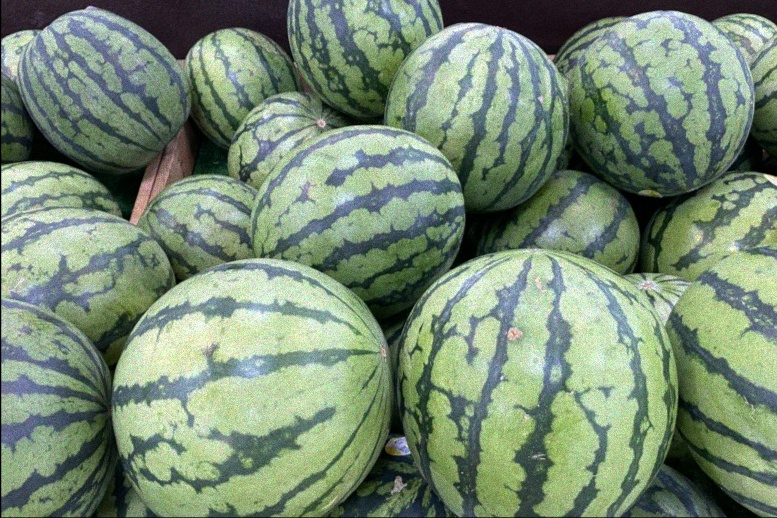watermelon: (399, 252, 678, 517), (113, 261, 395, 516), (241, 117, 468, 296), (575, 9, 759, 197), (393, 18, 565, 211), (19, 7, 190, 169), (2, 210, 181, 336)
